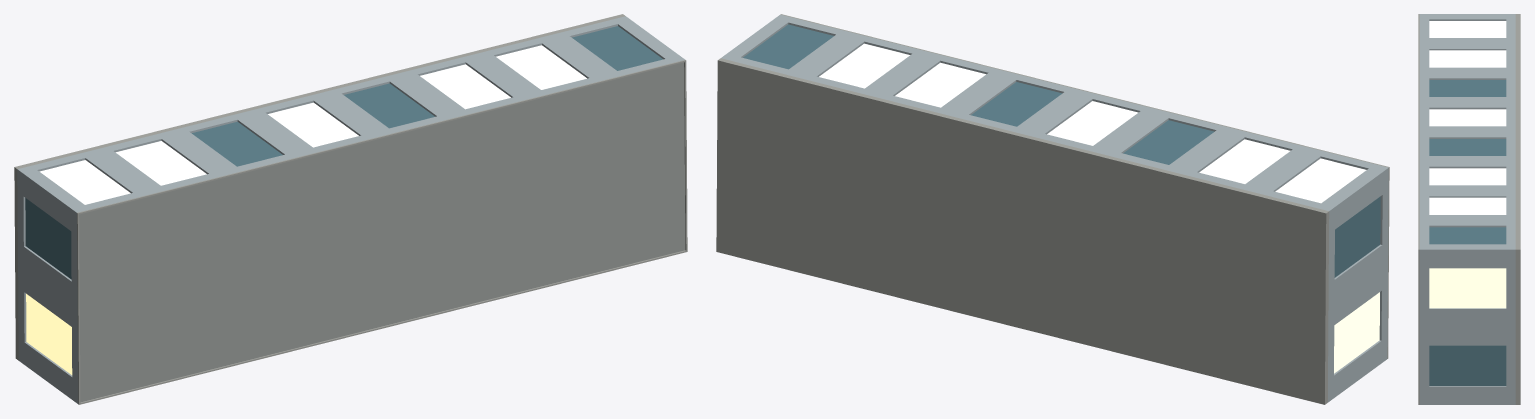
Rendered from office-mid.glb.
3 renders of one model, left to right at view 1: azimuth 30°, elevation 25°; view 2: azimuth 150°, elevation 25°; view 3: azimuth 270°, elevation 25°, orthographic. The views are drawn at different scales.
Visible parts, largest first — view 1: way/542782795; view 2: way/542782795; view 3: way/542782795.
Boxes of the visible parts, x1,y1,x2,y2 form: way/542782795: (14, 14, 687, 404); way/542782795: (716, 14, 1389, 404); way/542782795: (1418, 14, 1520, 404).
Bounding box in the file's own units: 70.91 × 21.83 × 12.76.
